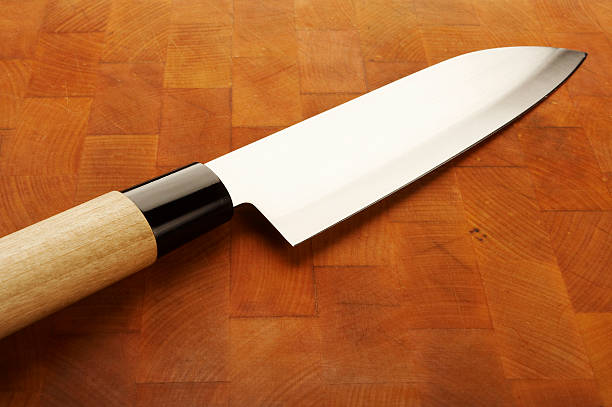knife: (0, 44, 589, 341)
